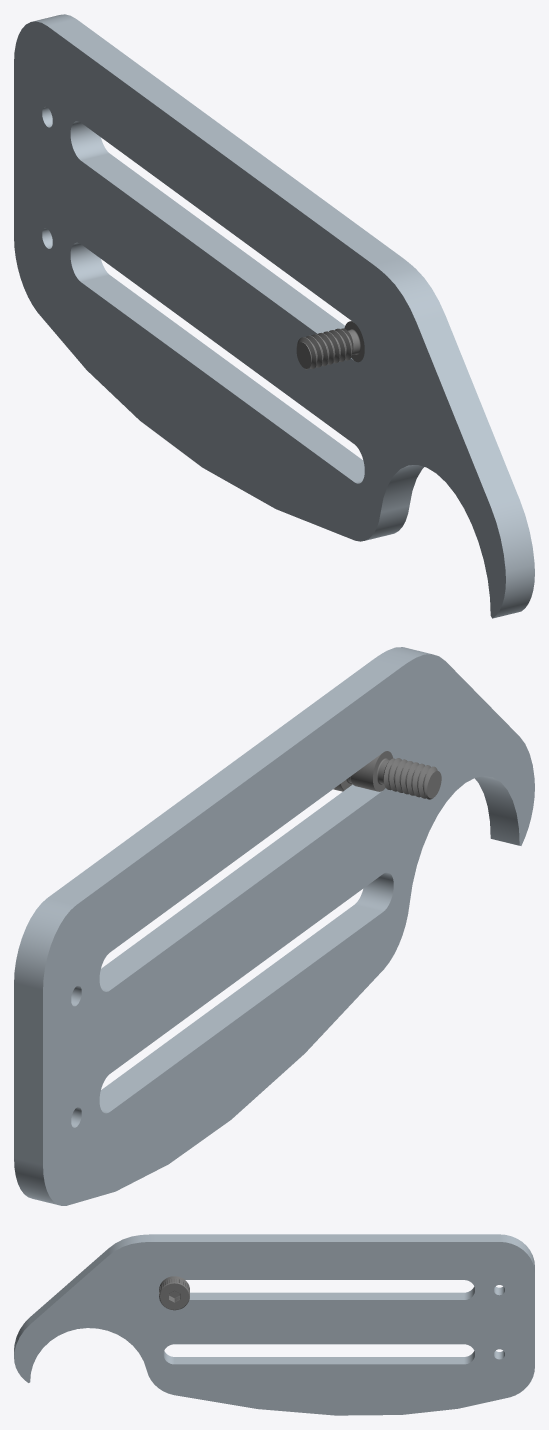
The picture shows the model from 3 angles, top to bottom: view 1: azimuth 30°, elevation 25°; view 2: azimuth 150°, elevation 25°; view 3: azimuth 270°, elevation 25°; orthographic projection. The views are drawn at different scales.
Parts seen in each view (by area): view 1: Hook v2, 91259A574_Alloy Steel Shoulder Screw; view 2: Hook v2, 91259A574_Alloy Steel Shoulder Screw; view 3: Hook v2, 91259A574_Alloy Steel Shoulder Screw.
Part boxes in pixels (left/top/right/bottom): Hook v2: left=14, top=14, right=534, bottom=618; 91259A574_Alloy Steel Shoulder Screw: left=296, top=321, right=364, bottom=369; Hook v2: left=14, top=647, right=534, bottom=1205; 91259A574_Alloy Steel Shoulder Screw: left=333, top=751, right=441, bottom=799; Hook v2: left=14, top=1234, right=534, bottom=1415; 91259A574_Alloy Steel Shoulder Screw: left=159, top=1276, right=189, bottom=1310.
Bounding box in the file's own units: 0.023 × 0.0686 × 0.1865.
